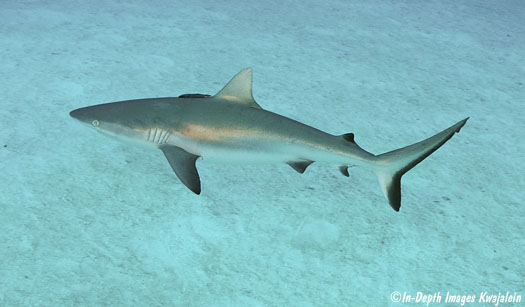Carcharhinus_amblyrhynchos: (42, 61, 480, 223)
